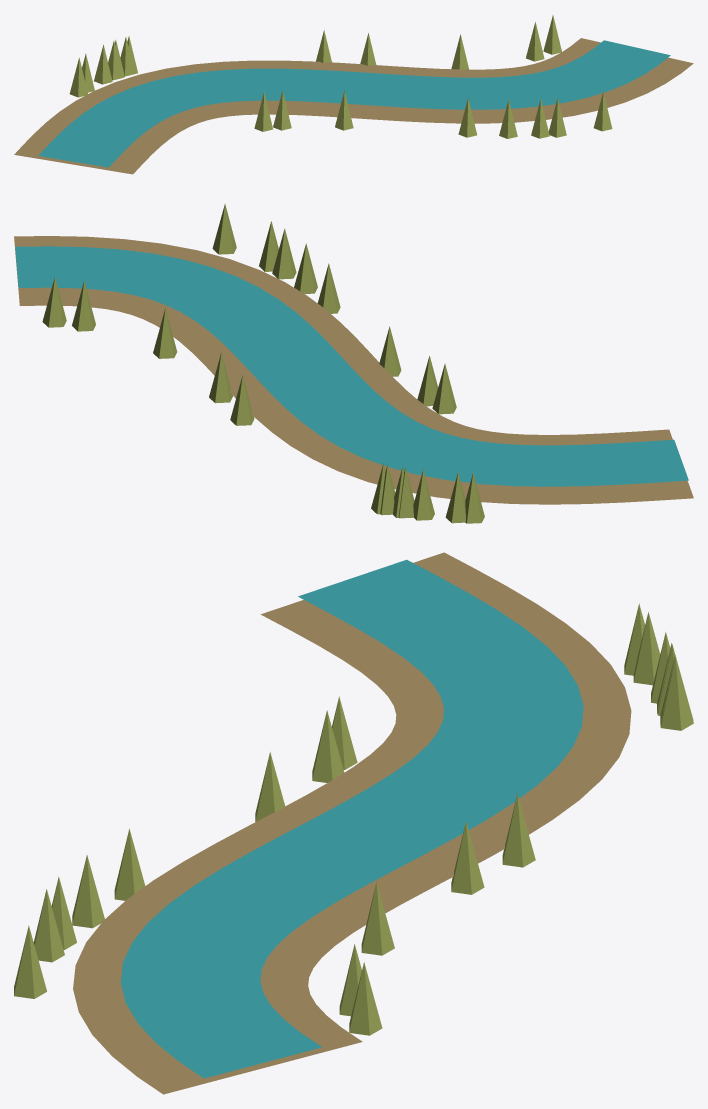
File: FEATURE_FLOODPLAINS_GRASSLAND_v00.fbx
3 views of the same model, one above another, from view 1: azimuth 30°, elevation 25°; view 2: azimuth 150°, elevation 25°; view 3: azimuth 270°, elevation 25° (orthographic). The views are drawn at different scales.
Visible parts, largest first — view 1: River_channel.003, Alluvial_banks.003, Riparian_grass.073, Riparian_grass.066, Riparian_grass.070, Riparian_grass.062, Riparian_grass.063, Riparian_grass.064, Riparian_grass.065, Riparian_grass.069, Riparian_grass.074, Riparian_grass.079 (+7 smaller); view 2: River_channel.003, Alluvial_banks.003, Riparian_grass.073, Riparian_grass.070, Riparian_grass.074, Riparian_grass.064, Riparian_grass.071, Riparian_grass.065, Riparian_grass.077, Riparian_grass.078, Riparian_grass.079, Riparian_grass.063 (+8 smaller); view 3: River_channel.003, Alluvial_banks.003, Riparian_grass.071, Riparian_grass.064, Riparian_grass.077, Riparian_grass.070, Riparian_grass.078, Riparian_grass.063, Riparian_grass.076, Riparian_grass.066, Riparian_grass.067, Riparian_grass.062 (+5 smaller).
Boxes of the visible parts, box(x1,y1,x2,y2) form: River_channel.003: box(38, 40, 670, 167); Alluvial_banks.003: box(14, 38, 693, 174); Riparian_grass.073: box(526, 21, 544, 61); Riparian_grass.066: box(273, 91, 291, 130); Riparian_grass.070: box(593, 91, 612, 131); Riparian_grass.062: box(458, 98, 476, 137); Riparian_grass.063: box(499, 99, 517, 138); Riparian_grass.064: box(543, 15, 561, 54); Riparian_grass.065: box(531, 99, 549, 138); Riparian_grass.069: box(335, 91, 353, 130); Riparian_grass.074: box(254, 92, 273, 131); Riparian_grass.079: box(94, 44, 112, 84); River_channel.003: box(15, 246, 688, 486); Alluvial_banks.003: box(14, 236, 693, 504); Riparian_grass.073: box(72, 281, 95, 331); Riparian_grass.070: box(212, 203, 236, 254); Riparian_grass.074: box(432, 363, 456, 414); Riparian_grass.064: box(42, 277, 66, 327); Riparian_grass.071: box(153, 308, 177, 358); Riparian_grass.065: box(272, 228, 296, 279); Riparian_grass.077: box(230, 375, 254, 425); Riparian_grass.078: box(209, 352, 232, 403); Riparian_grass.079: box(413, 470, 434, 520); Riparian_grass.063: box(294, 243, 317, 293); River_channel.003: box(121, 559, 583, 1078); Alluvial_banks.003: box(73, 552, 631, 1094); Riparian_grass.071: box(361, 882, 394, 955); Riparian_grass.064: box(349, 962, 382, 1035); Riparian_grass.077: box(502, 794, 535, 867); Riparian_grass.070: box(14, 925, 46, 998); Riparian_grass.078: box(451, 821, 484, 894); Riparian_grass.063: box(72, 855, 104, 928); Riparian_grass.076: box(660, 657, 693, 730); Riparian_grass.066: box(312, 710, 344, 782); Riparian_grass.067: box(33, 889, 64, 962); Riparian_grass.062: box(114, 828, 145, 900).
Size of the model in its own units: 174 by 10 by 92.46.
